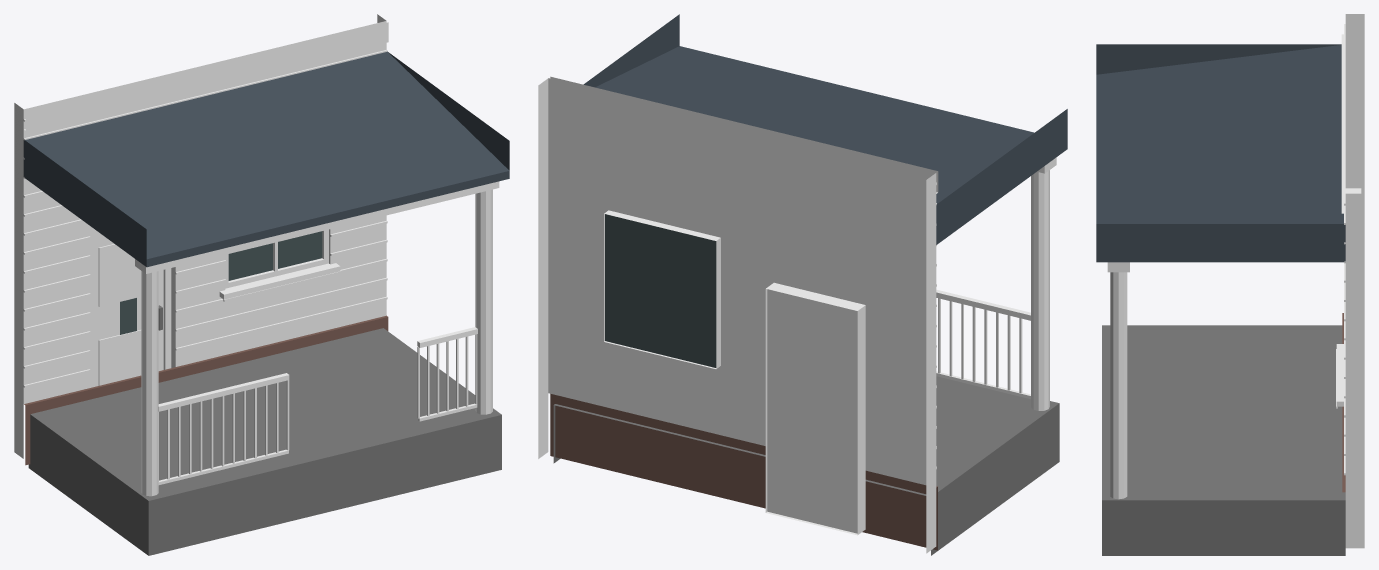
Rendered from base-stair3_close.fbx.
The picture shows the model from 3 angles, left to right: view 1: azimuth 30°, elevation 25°; view 2: azimuth 150°, elevation 25°; view 3: azimuth 270°, elevation 25°; orthographic projection. The views are drawn at different scales.
Visible parts, largest first — view 1: a2000/600/base-stair_close; view 2: a2000/600/base-stair_close; view 3: a2000/600/base-stair_close.
Boxes of the visible parts, x1,y1,x2,y2 form: a2000/600/base-stair_close: (14,14,509,555); a2000/600/base-stair_close: (538,14,1067,555); a2000/600/base-stair_close: (1096,14,1364,555).
Bounding box in the file's own units: 3.8 × 3.6 × 2.4.
